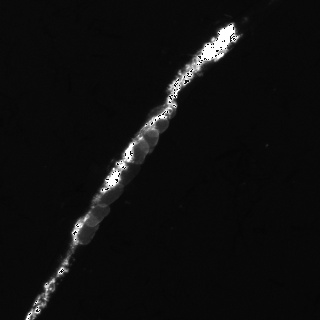embryo: (78, 214, 100, 244), (137, 129, 159, 155), (119, 163, 140, 186), (99, 184, 123, 204), (87, 204, 109, 225), (149, 104, 176, 121), (144, 119, 168, 138), (132, 138, 148, 164)
